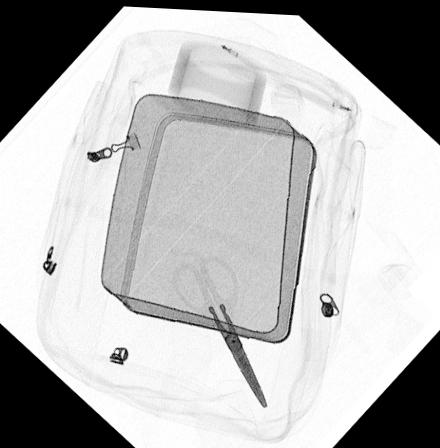Scissors: (167, 253, 270, 406)
